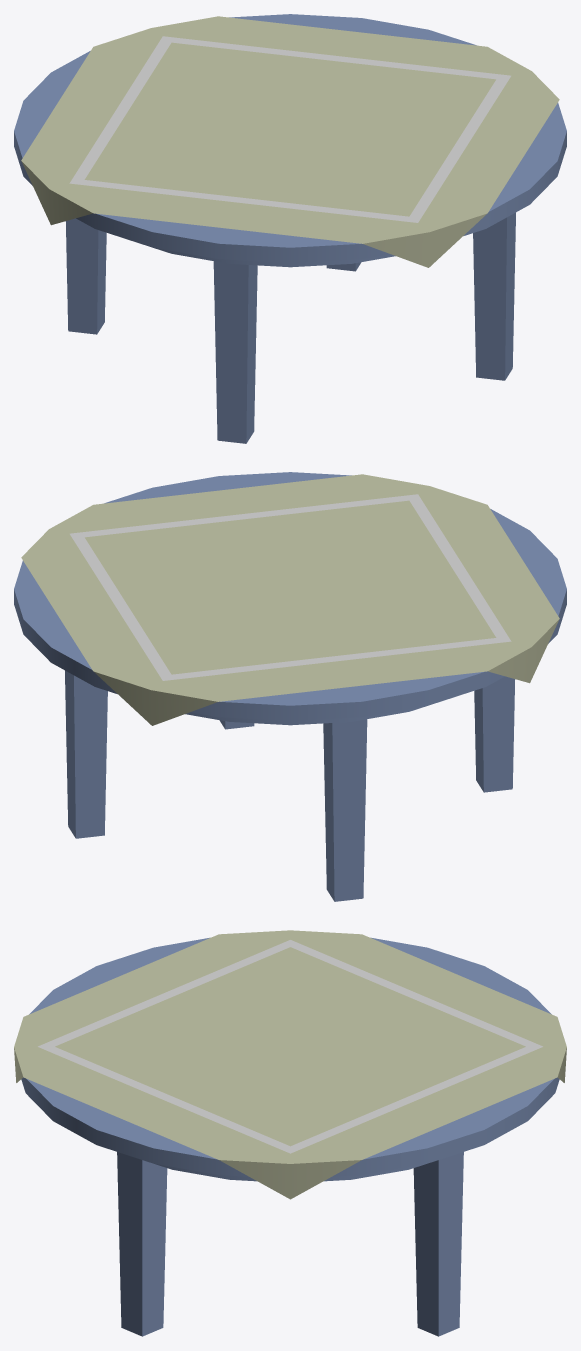
File: tableA_mdl.fbx
The picture shows the model from 3 angles, top to bottom: view 1: azimuth 30°, elevation 25°; view 2: azimuth 150°, elevation 25°; view 3: azimuth 270°, elevation 25°; orthographic projection.
Parts seen in each view (by area): view 1: table_geo; view 2: table_geo; view 3: table_geo.
Boxes of the visible parts, bbox=[...] form: table_geo: bbox=[14, 14, 566, 443]; table_geo: bbox=[14, 472, 566, 901]; table_geo: bbox=[14, 930, 566, 1336].
Size of the model in its own units: 2.42 by 1.05 by 2.42.
